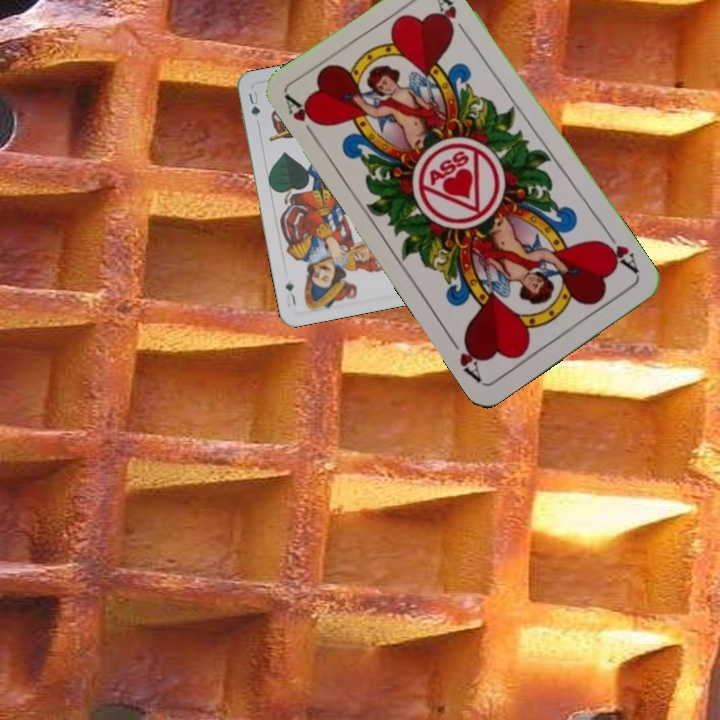GU: (244, 87, 263, 120)
HA: (594, 227, 642, 278), (281, 92, 325, 145)
